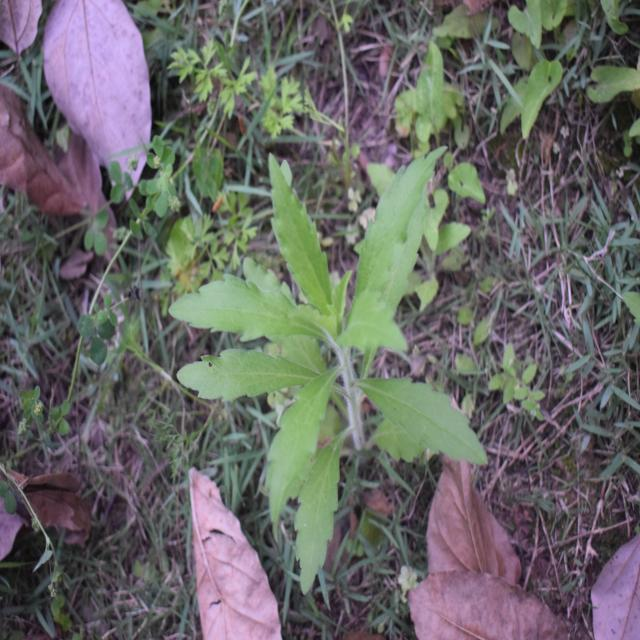horseweed: (179, 158, 466, 528)
